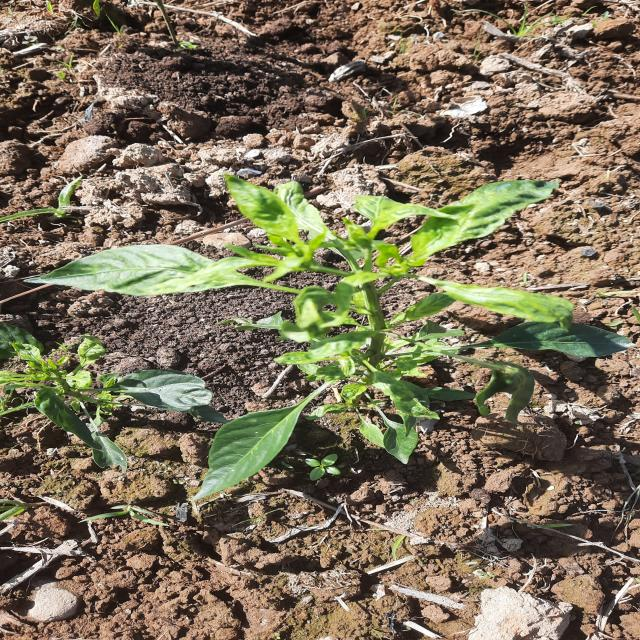virus_kuning: (409, 173, 561, 260), (436, 277, 574, 326)
